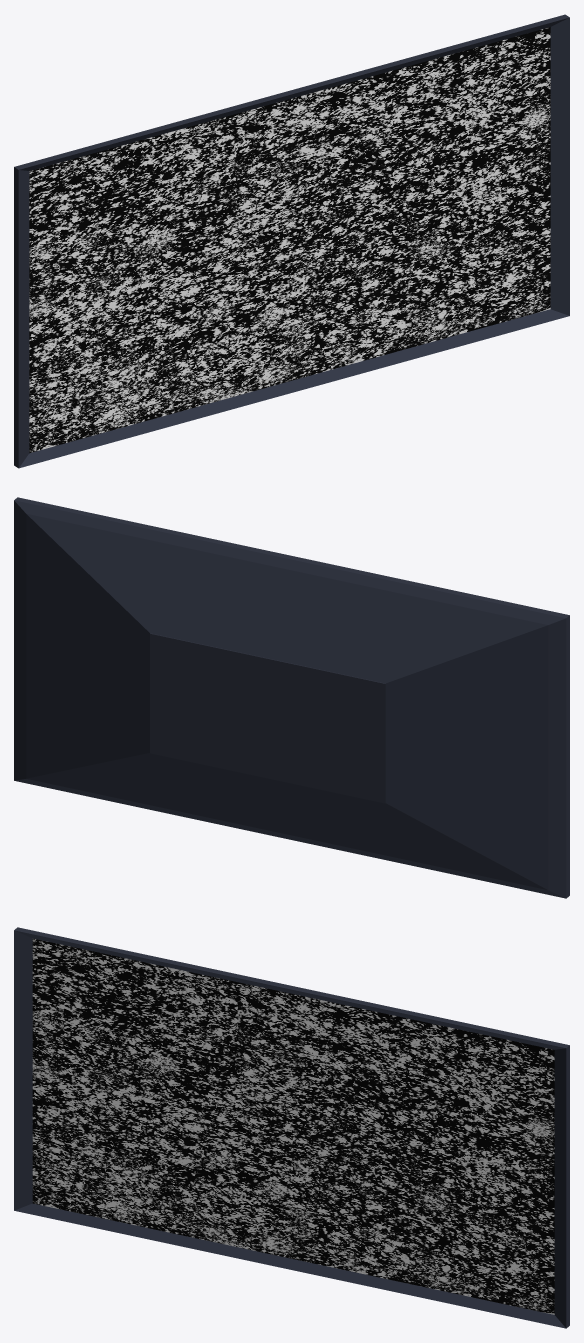
3 views of the same model, one above another, from view 1: azimuth 30°, elevation 25°; view 2: azimuth 150°, elevation 25°; view 3: azimuth 330°, elevation 25° (orthographic). The views are drawn at different scales.
Parts seen in each view (by area): view 1: pCube2; view 2: pCube2; view 3: pCube2.
Part boxes in pixels (bbox=[...]): pCube2: bbox=[14, 14, 569, 468]; pCube2: bbox=[14, 497, 569, 898]; pCube2: bbox=[14, 927, 569, 1328].
Size of the model in its own units: 84.57 by 42.32 by 11.28.
Materials: 1 (1 with a texture image).
